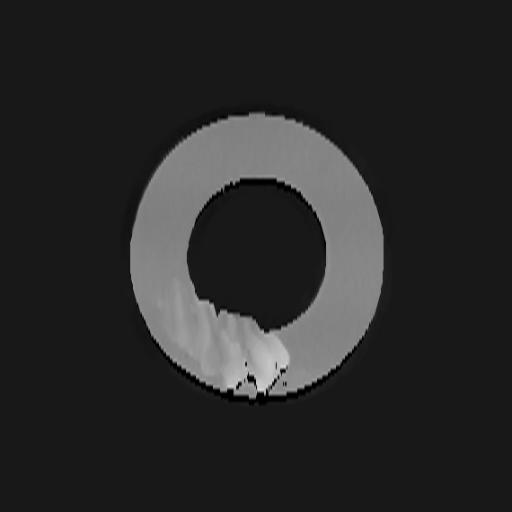defect: (158, 278, 290, 395)
